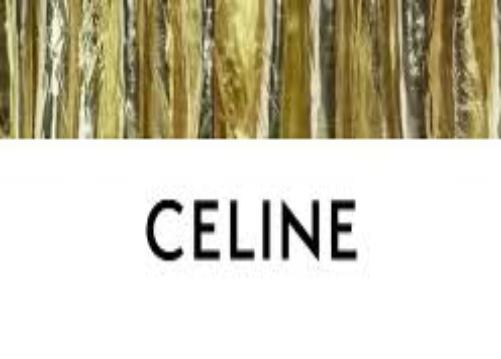CELINE: (143, 185, 363, 275)
